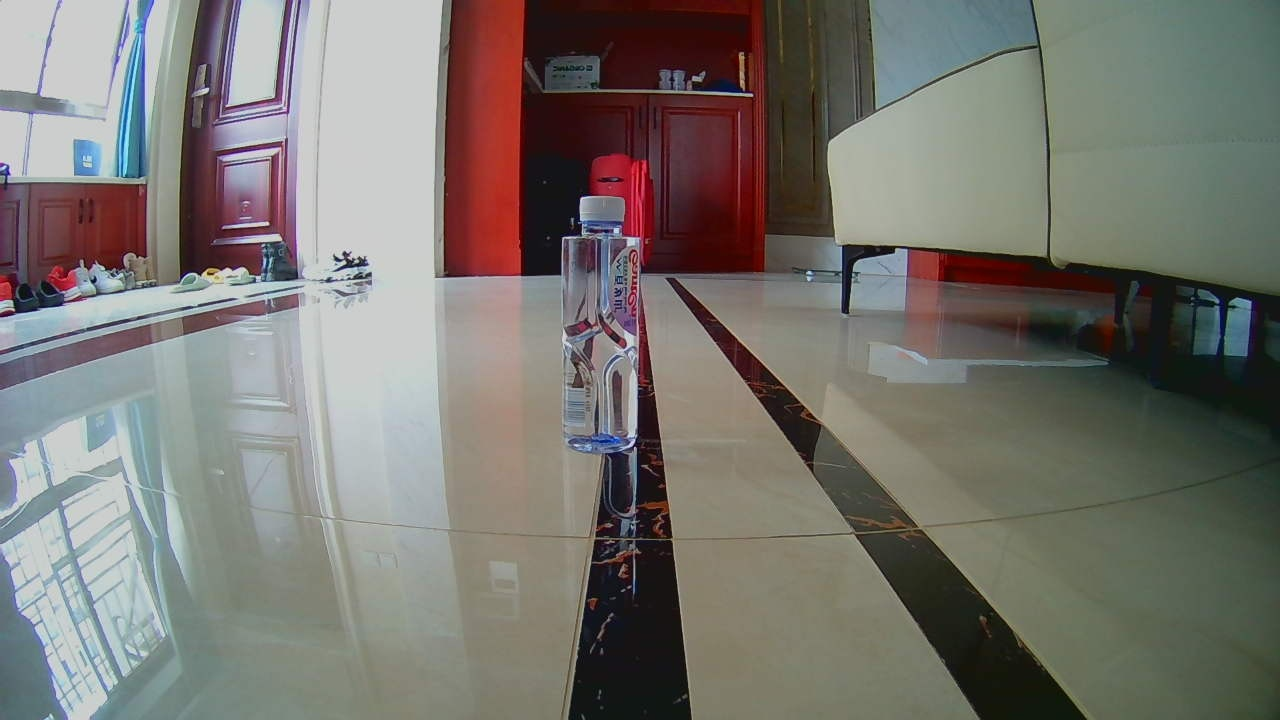water: (560, 198, 640, 450)
